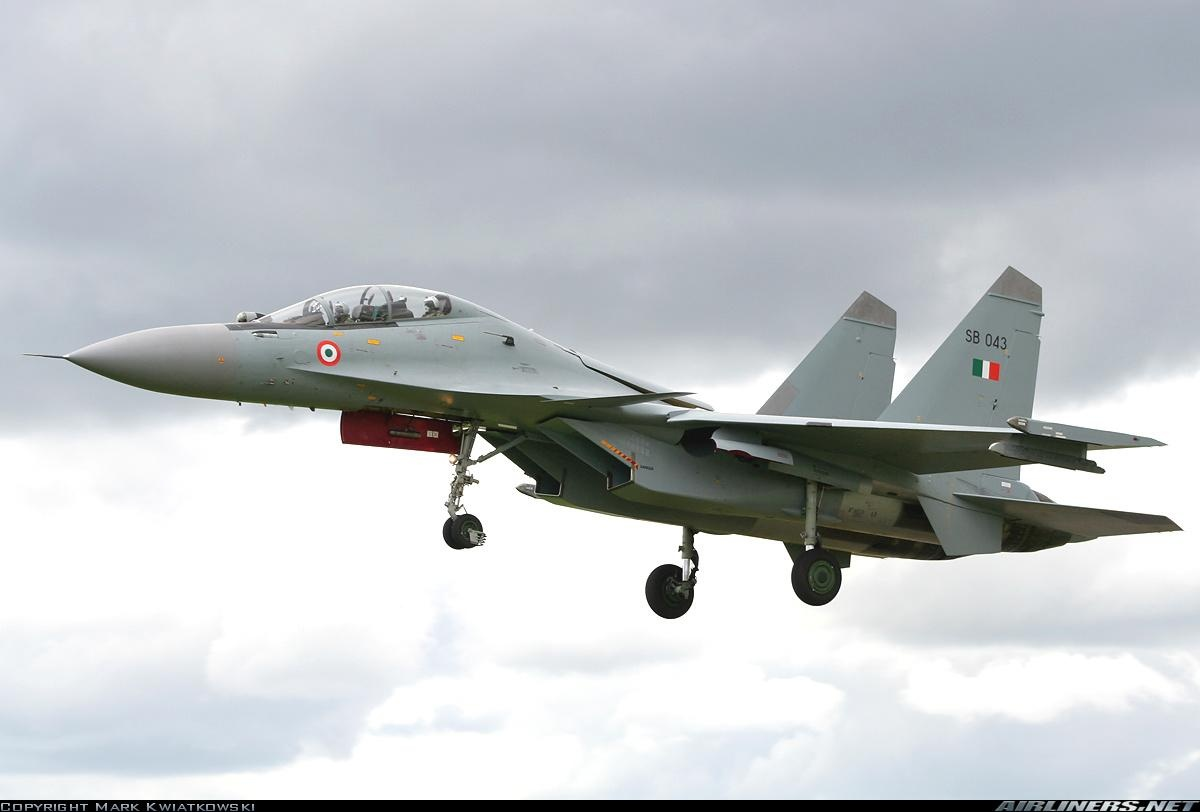aircraft: (68, 253, 1198, 617)
